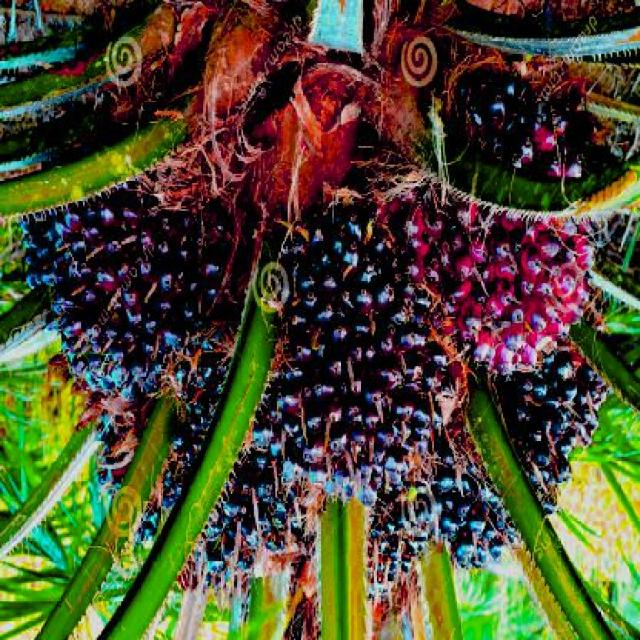palm-oil: (22, 126, 242, 396), (247, 196, 458, 474), (86, 383, 300, 572), (397, 356, 596, 554), (411, 173, 591, 382), (442, 46, 628, 192)
